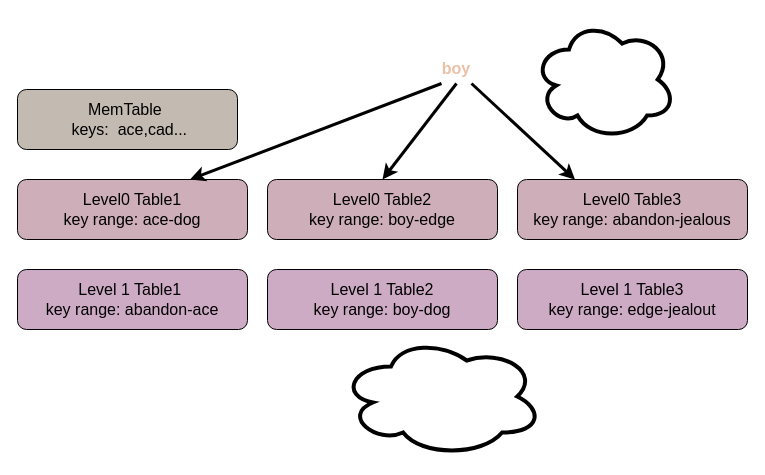
Some shapes in this 765 by 475 pixel diagram are drawn without their labels. Each missing label, with the centre of its shape:
"Level0 的三个表中都可能包含 boy" belongs at (604,79).
"Level1 中只有 Table2 中可能包含 boy" belongs at (441,396).
